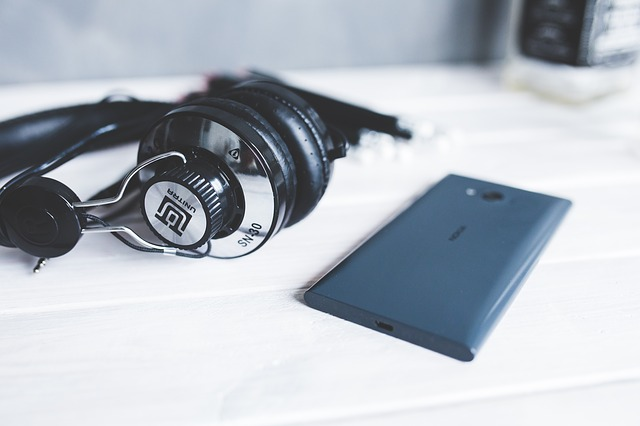headphones: (1, 81, 337, 260)
